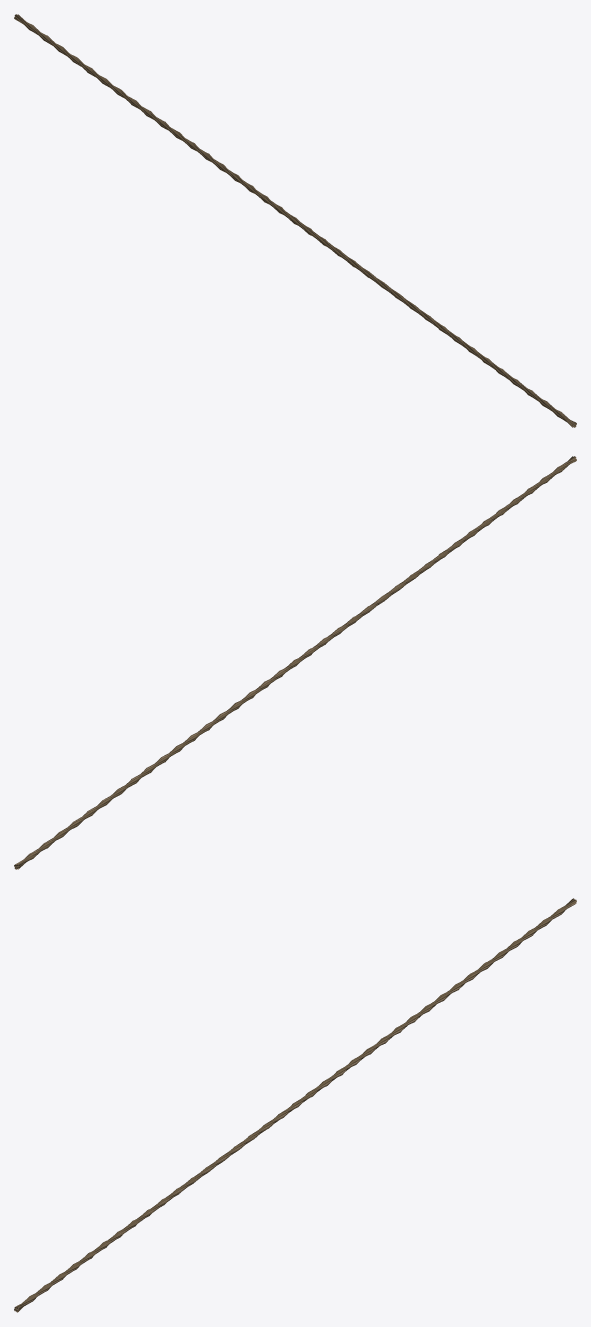
The model's file is WpMD_GrapplingRope_01.fbx.
The picture shows the model from 3 angles, top to bottom: view 1: azimuth 30°, elevation 25°; view 2: azimuth 150°, elevation 25°; view 3: azimuth 330°, elevation 25°; orthographic projection.
Parts seen in each view (by area): view 1: sweep1; view 2: sweep1; view 3: sweep1.
Boxes of the visible parts, x1=… form: sweep1: x1=14, y1=14, x2=576, y2=427; sweep1: x1=14, y1=456, x2=576, y2=869; sweep1: x1=14, y1=898, x2=576, y2=1312.
Size of the model in its own units: 0.5913 by 0.5913 by 101.
Materials: 1 (1 with a texture image).
